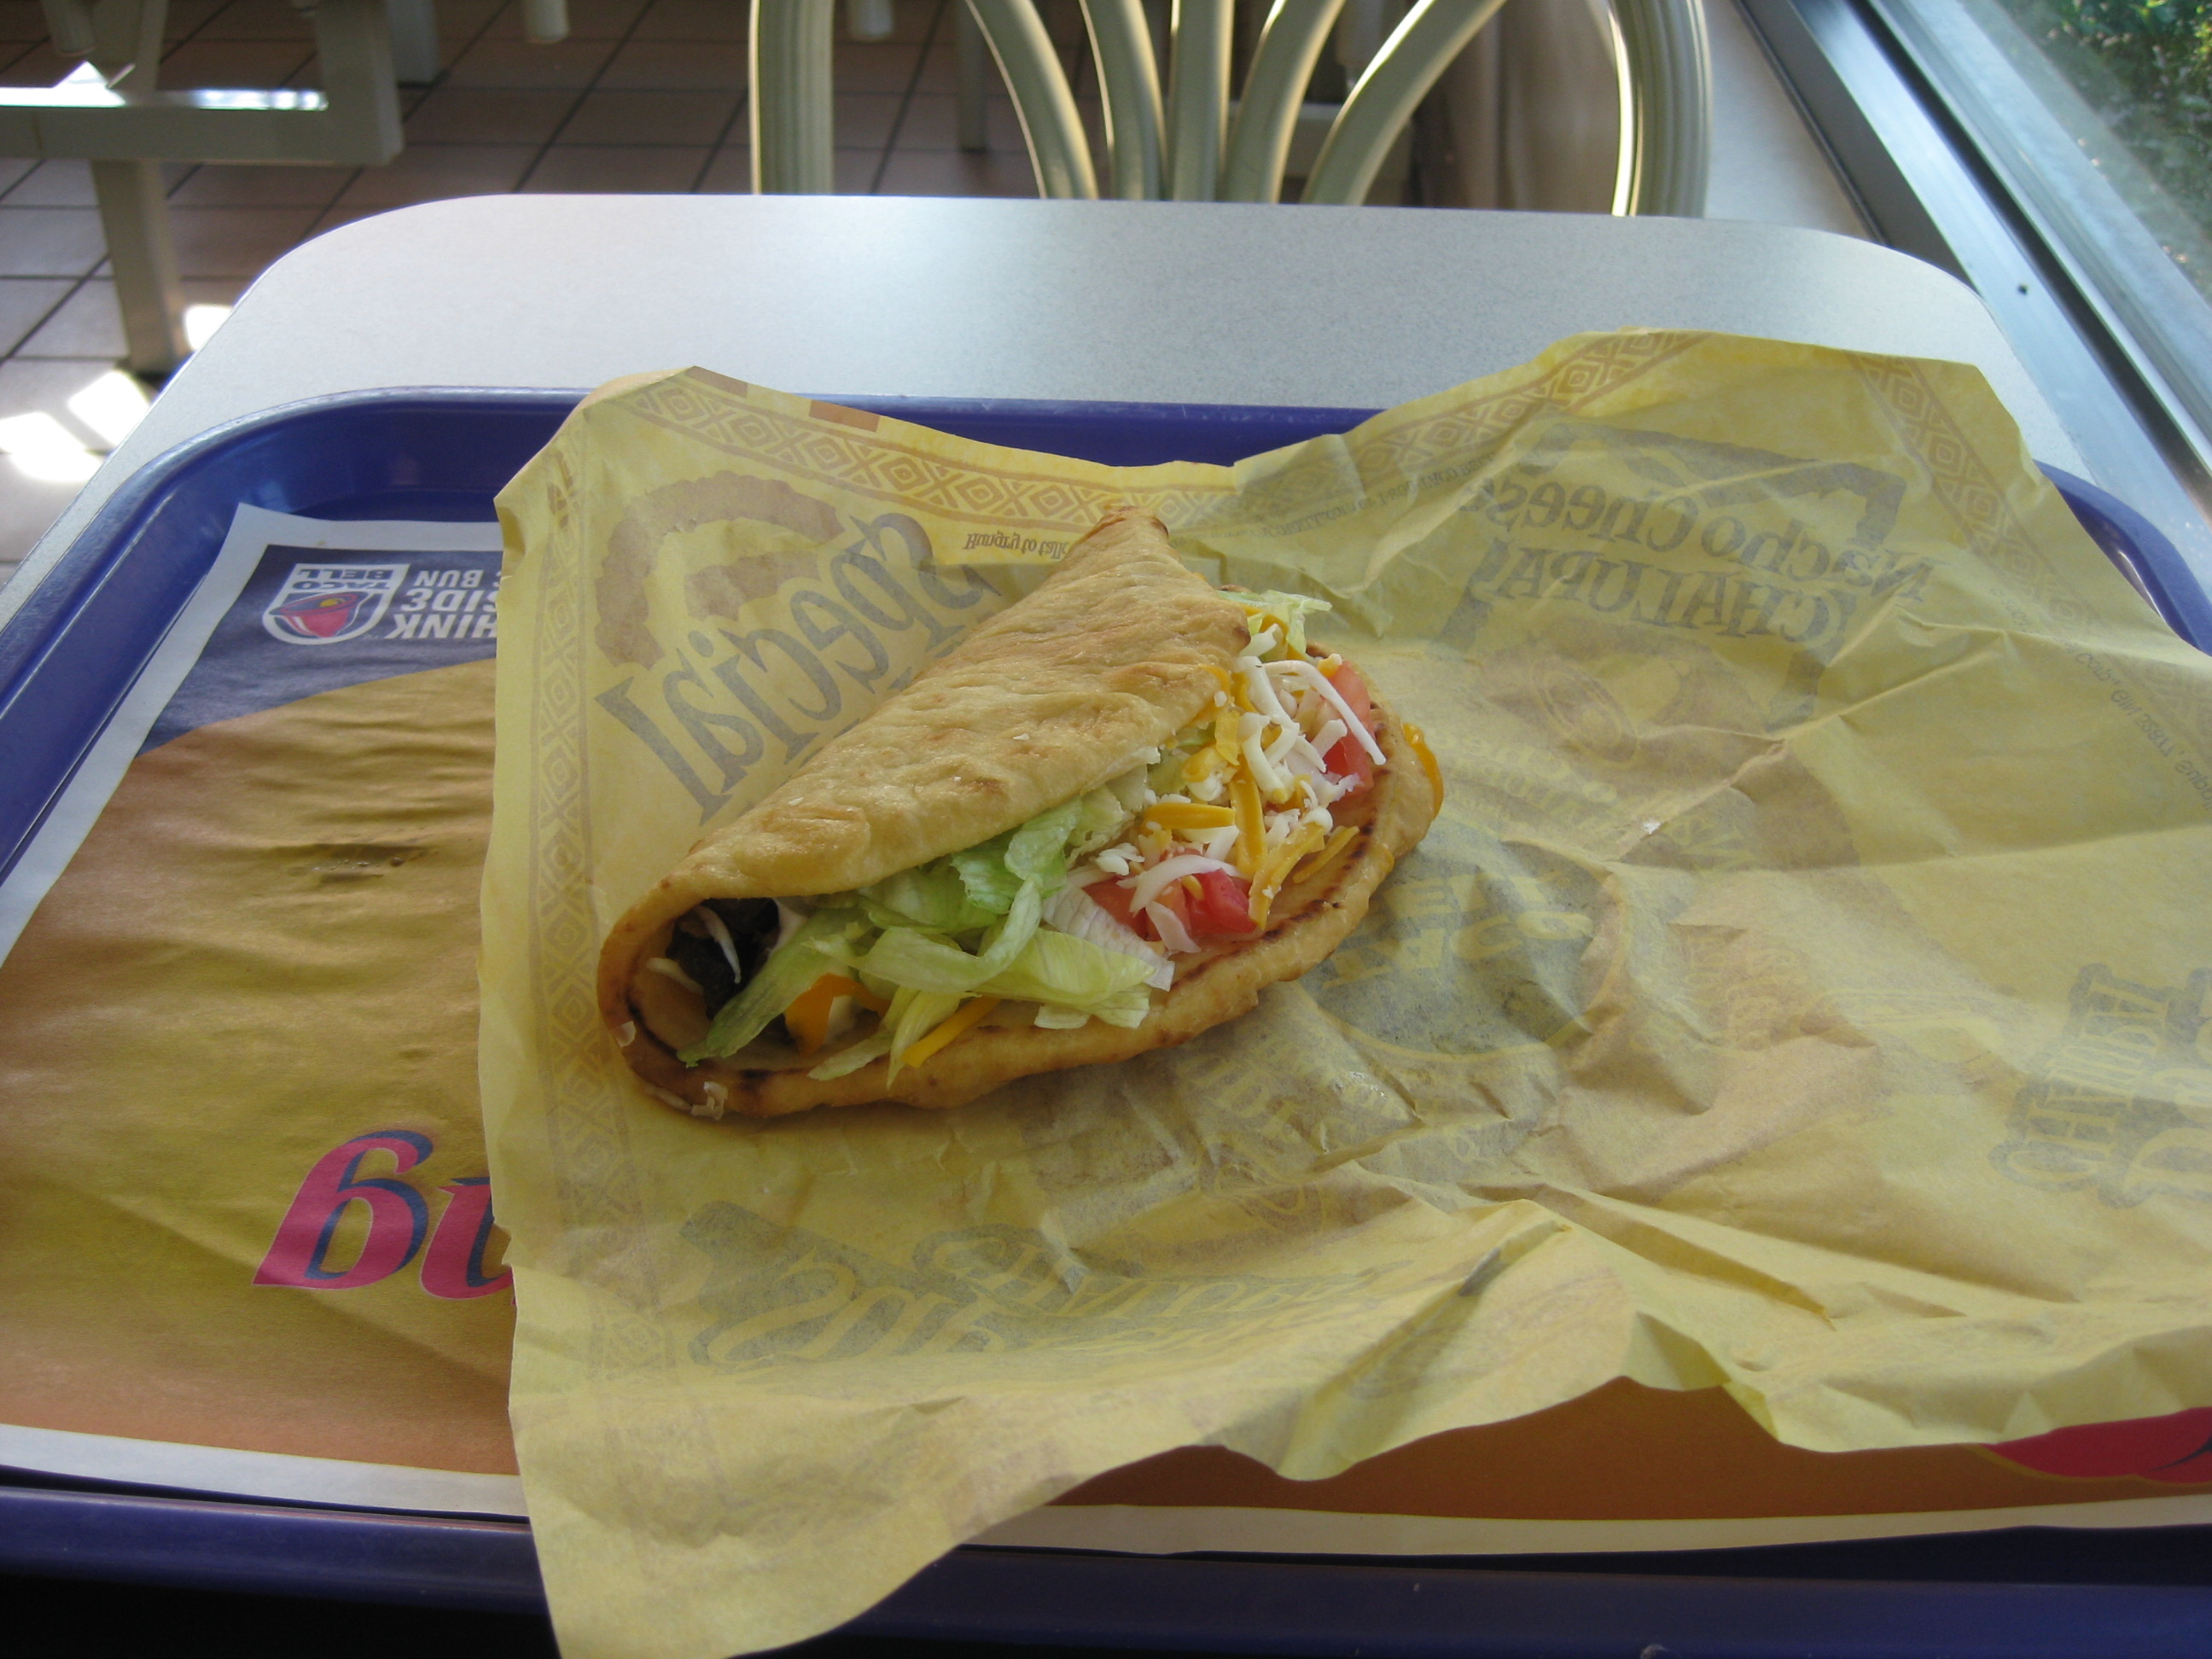taco: (556, 495, 1565, 1146)
